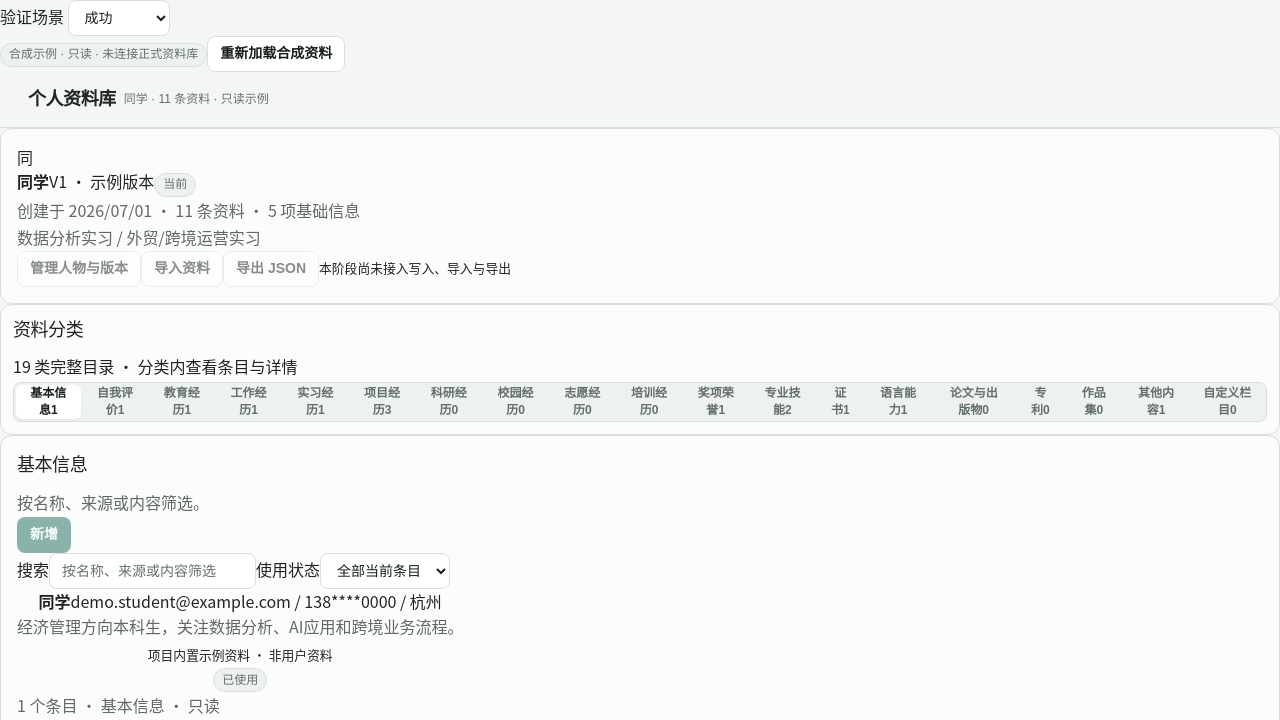
P522 Host experience › shows invalid without stale facts
Expected: the tab "基本信息1" is shown, [16,386,81,419]
Select "无效响应" in the dropdown labelled "验证场景": (119, 18) [68,0,170,36]
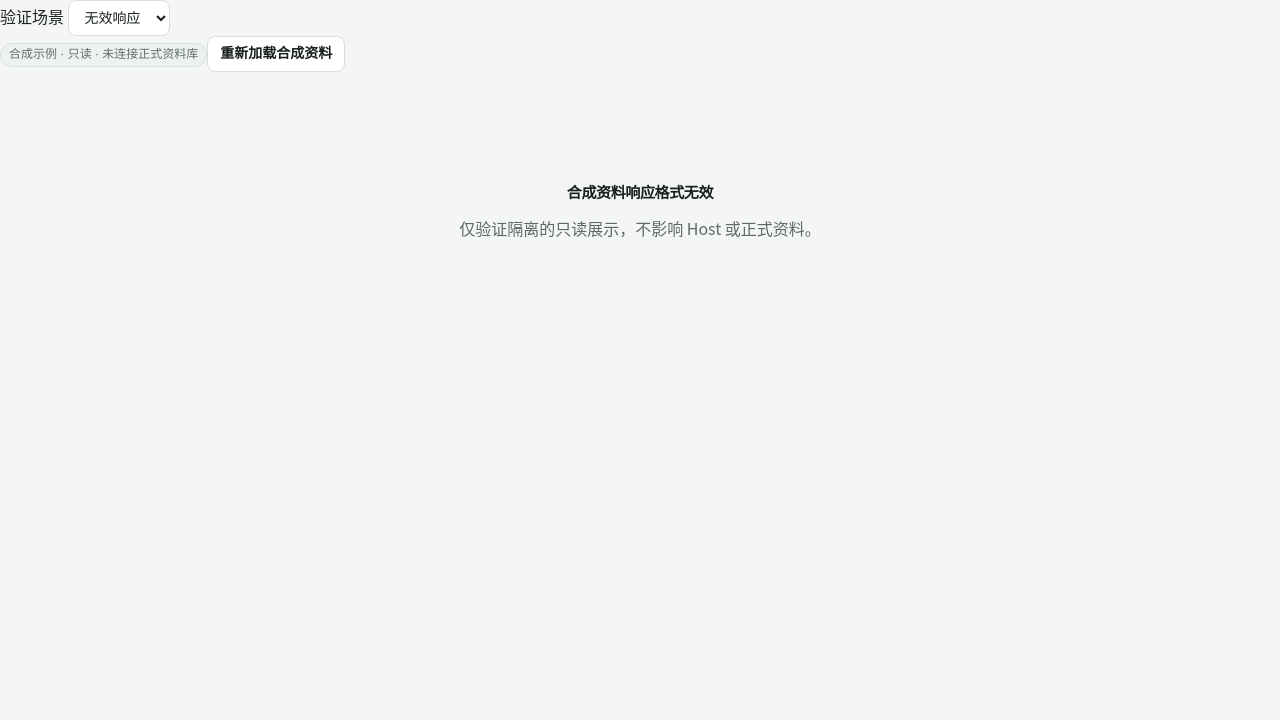
Result: the heading "合成资料响应格式无效" is shown at [567,182,713,203]
